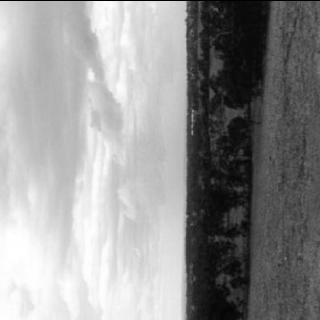Stratus: (0, 0, 188, 320)
